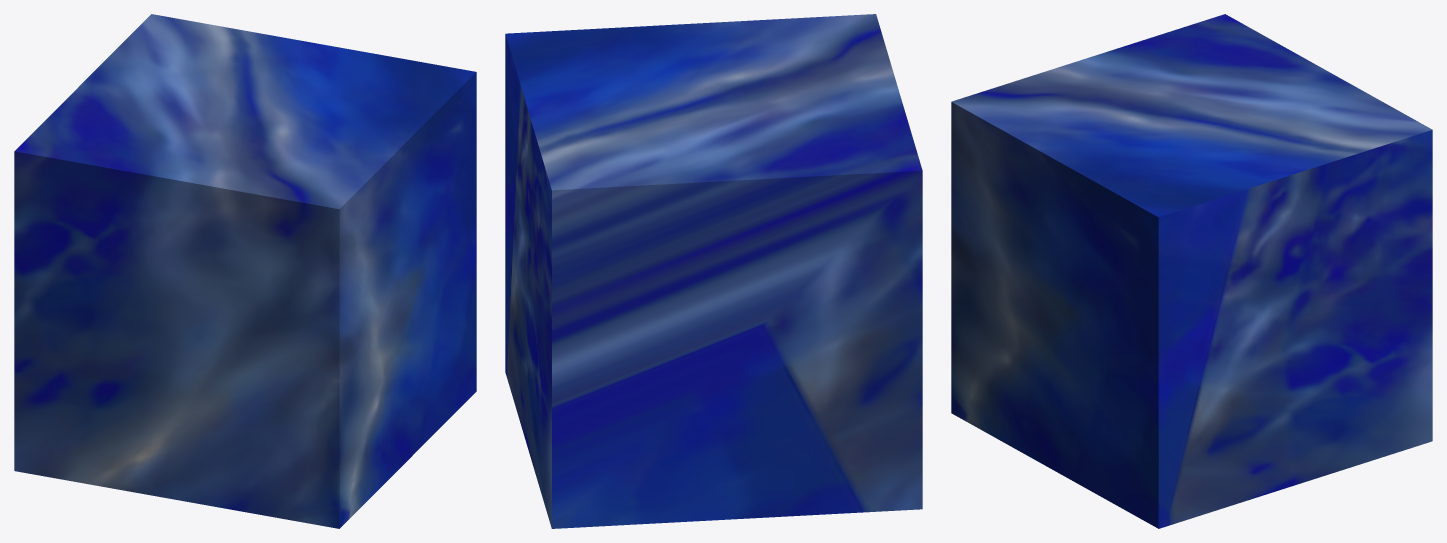
Rendered from BlueBlocks_1.gltf.
3 renders of one model, left to right at view 1: azimuth 30°, elevation 25°; view 2: azimuth 150°, elevation 25°; view 3: azimuth 270°, elevation 25°, orthographic. The views are drawn at different scales.
Visible parts, largest first — view 1: BlueBlocks_1; view 2: BlueBlocks_1; view 3: BlueBlocks_1.
Boxes of the visible parts, x1=… form: BlueBlocks_1: x1=14, y1=14, x2=476, y2=528; BlueBlocks_1: x1=505, y1=14, x2=922, y2=528; BlueBlocks_1: x1=951, y1=14, x2=1432, y2=528.
Size of the model in its own units: 6.94 by 4.95 by 6.94.
Materials: 1 (1 with a texture image).
